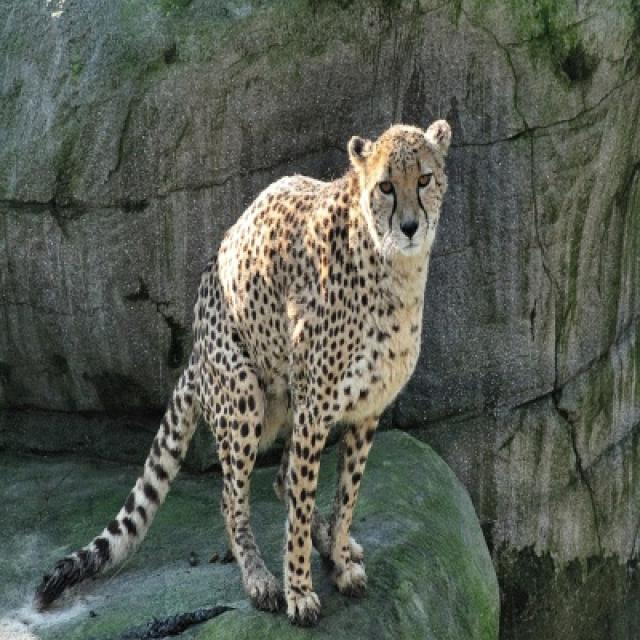Cheetah: (31, 114, 452, 622)
